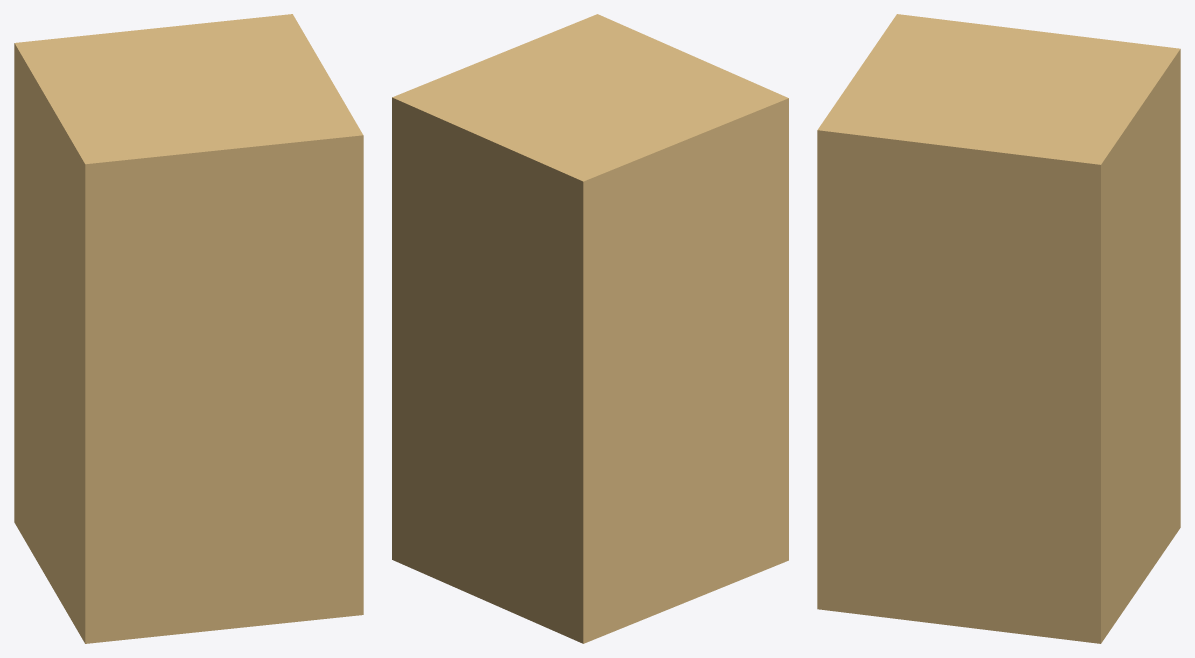
Rendered from CLA.gltf.
The picture shows the model from 3 angles, left to right: view 1: azimuth 30°, elevation 25°; view 2: azimuth 150°, elevation 25°; view 3: azimuth 270°, elevation 25°; orthographic projection. The views are drawn at different scales.
Parts seen in each view (by area): view 1: CLATest; view 2: CLATest; view 3: CLATest.
Part boxes in pixels (box(x1,y1,x2,y2)): CLATest: box(14, 14, 363, 643); CLATest: box(392, 14, 788, 643); CLATest: box(817, 14, 1180, 643).
Bounding box in the file's own units: 1.35 × 2 × 1.37.
